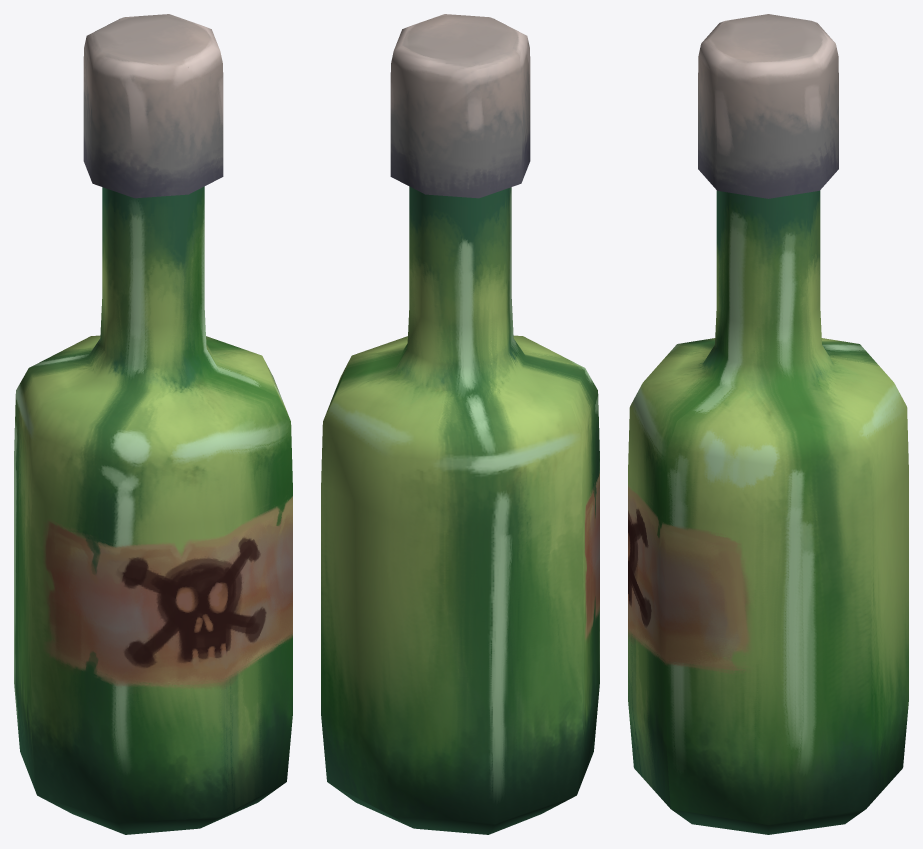
File: RumGarrafa.fbx
3 renders of one model, left to right at view 1: azimuth 30°, elevation 25°; view 2: azimuth 150°, elevation 25°; view 3: azimuth 270°, elevation 25°, orthographic.
Visible parts, largest first — view 1: RumGarrafa; view 2: RumGarrafa; view 3: RumGarrafa.
Boxes of the visible parts, x1=… form: RumGarrafa: x1=14, y1=14, x2=292, y2=834; RumGarrafa: x1=321, y1=14, x2=599, y2=834; RumGarrafa: x1=628, y1=14, x2=908, y2=834.
Size of the model in its own units: 15.4 by 46.27 by 15.4.
